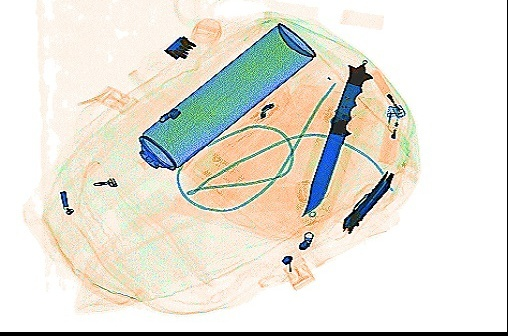knife: (298, 58, 374, 219), (340, 169, 395, 234)
lighter: (374, 103, 404, 166), (370, 67, 406, 119)
pressure: (130, 20, 317, 172)
